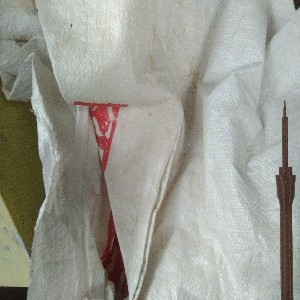solder: (274, 99, 296, 300)
